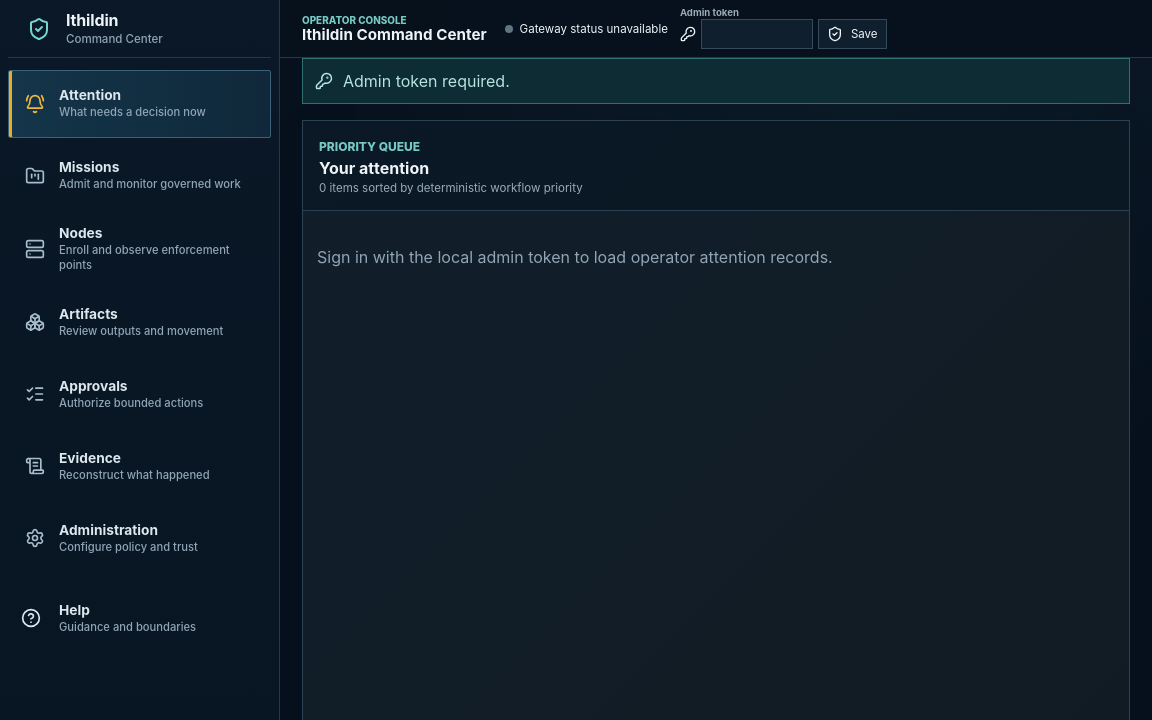
Review console interactions › routes mission evidence exceptions into keyboard-accessible Attention remediation
Step 1. Type "local-token" into the password field labelled "Admin token" → (757, 34), box top-left (701, 19), bottom-right (813, 49)
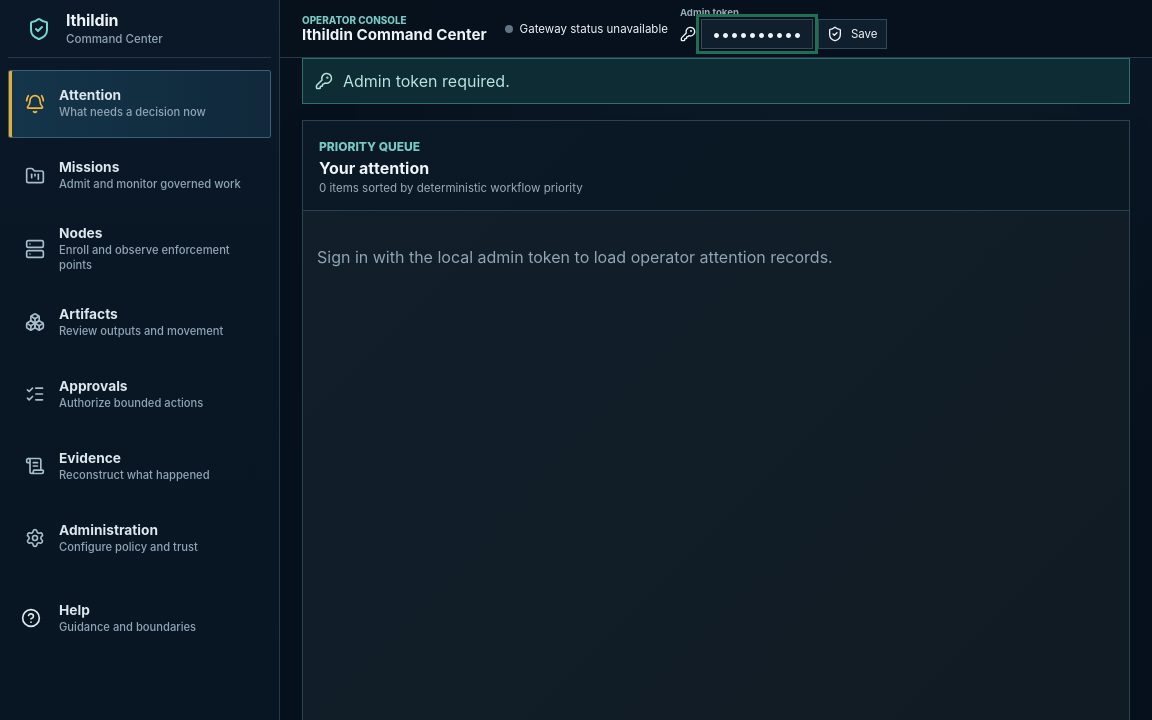
Step 2. Click the button "Save" → (852, 34), box top-left (818, 19), bottom-right (887, 49)
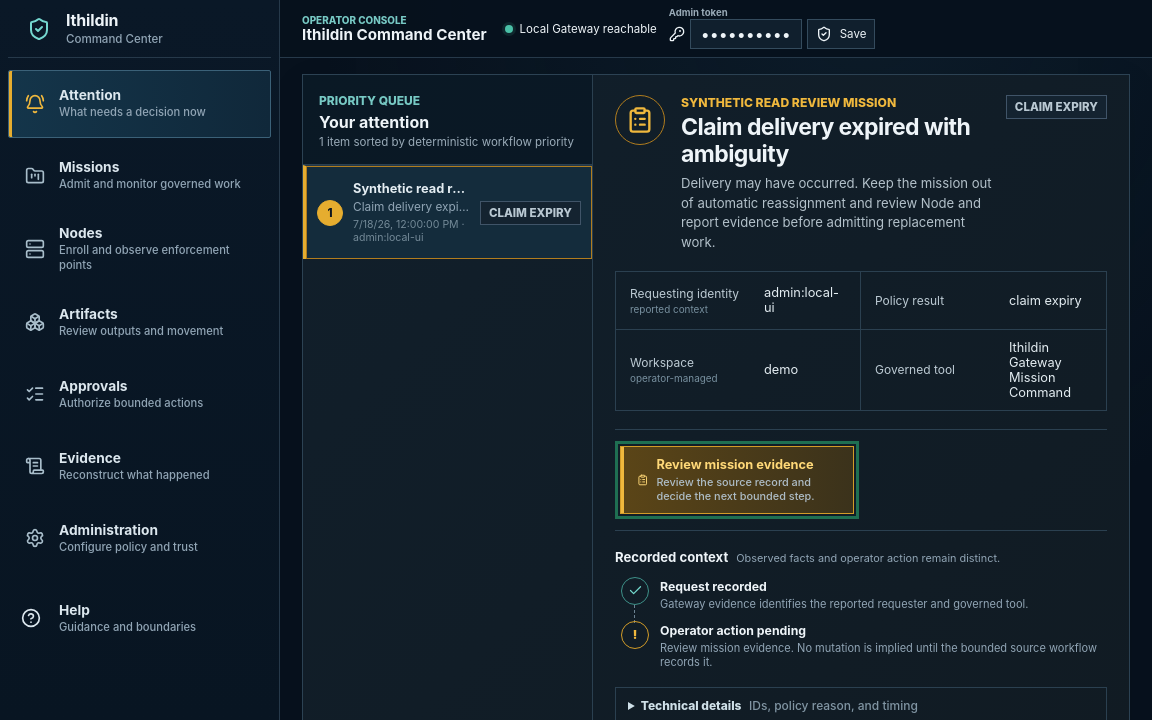
Expected: the text "Claim delivery expired with ambiguity" is shown, top-left (353, 200), bottom-right (472, 214)
Step 3. Press Enter
(page scrolled)
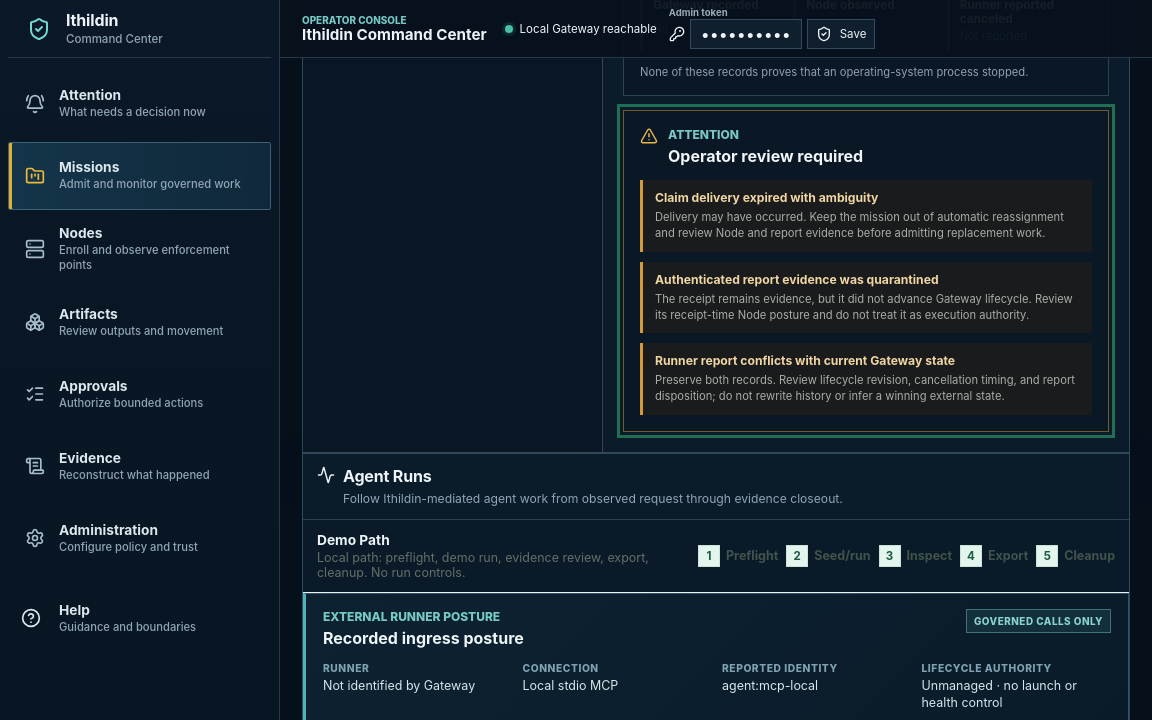
Expected: the text "Claim delivery expired with ambiguity" is shown, top-left (655, 190), bottom-right (878, 205)
Expected: the text "Authenticated report evidence was quarantined" is shown, top-left (655, 272), bottom-right (938, 287)
Expected: the text "Runner report conflicts with current Gateway state" is shown, top-left (655, 353), bottom-right (955, 368)
